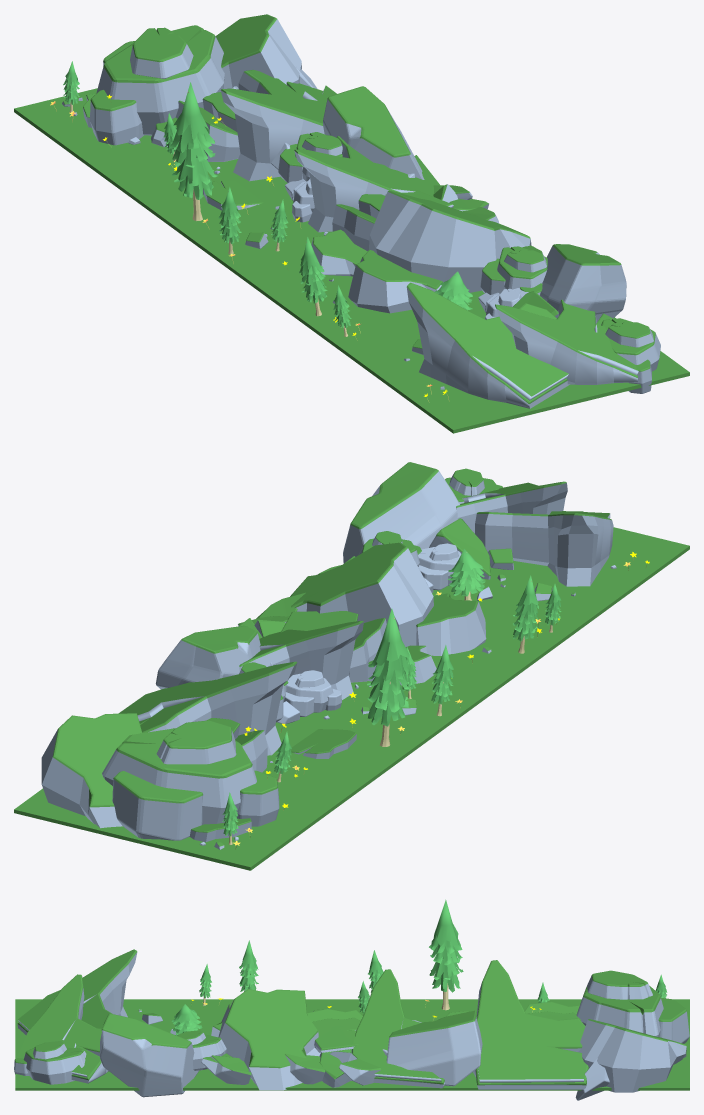
The model's file is Pebble's Road Section 01.fbx.
3 renders of one model, top to bottom at view 1: azimuth 30°, elevation 25°; view 2: azimuth 150°, elevation 25°; view 3: azimuth 270°, elevation 25°, orthographic. The views are drawn at different scales.
Visible parts, largest first — view 1: Ground_, Rock_10_1, Rock_21, Rock_07_6, Rock_17, Rock_22, Rock_20, Rock_13_2, Rock_13_1, Rock_07_, Tree_03__3_, Rock_07_5 (+14 smaller); view 2: Ground_, Rock_10_1, Rock_07_6, Rock_17, Rock_21, Rock_07_, Rock_13_1, Rock_20, Rock_13_2, Tree_03__3_, Rock_07_5, Rock_22 (+14 smaller); view 3: Ground_, Rock_17, Rock_07_6, Rock_13_1, Rock_10_1, Rock_07_, Rock_13_2, Rock_20, Rock_22, Rock_21, Rock_10_8, Tree_03__3_ (+12 smaller).
Part boxes in pixels (<box>): Ground_: <box>14,88,689,433</box>; Rock_10_1: <box>90,25,224,145</box>; Rock_21: <box>406,282,569,408</box>; Rock_07_6: <box>369,190,531,292</box>; Rock_17: <box>220,70,336,181</box>; Rock_22: <box>495,299,638,384</box>; Rock_20: <box>294,136,439,232</box>; Rock_13_2: <box>323,86,424,179</box>; Rock_13_1: <box>540,244,626,321</box>; Rock_07_: <box>215,14,301,88</box>; Tree_03__3_: <box>169,82,217,220</box>; Rock_07_5: <box>348,250,443,313</box>; Ground_: <box>14,527,689,870</box>; Rock_10_1: <box>102,720,279,840</box>; Rock_07_6: <box>290,542,433,646</box>; Rock_17: <box>118,661,297,755</box>; Rock_21: <box>475,511,613,586</box>; Rock_07_: <box>41,713,142,828</box>; Rock_13_1: <box>343,462,459,563</box>; Rock_20: <box>239,620,363,699</box>; Rock_13_2: <box>155,625,260,689</box>; Tree_03__3_: <box>367,608,410,746</box>; Rock_07_5: <box>416,593,486,655</box>; Rock_22: <box>456,481,567,533</box>; Ground_: <box>15,999,689,1090</box>; Rock_17: <box>473,960,588,1089</box>; Rock_07_6: <box>218,989,318,1090</box>; Rock_13_1: <box>100,1013,198,1097</box>; Rock_10_1: <box>576,970,689,1043</box>; Rock_07_: <box>578,1019,686,1092</box>; Rock_13_2: <box>386,1010,482,1086</box>; Rock_20: <box>350,969,444,1088</box>; Rock_22: <box>16,974,108,1083</box>; Rock_21: <box>17,949,137,1035</box>; Rock_10_8: <box>14,1041,86,1084</box>; Tree_03__3_: <box>429,899,463,1010</box>.
Size of the model in its own units: 7224 by 4681 by 22543.
